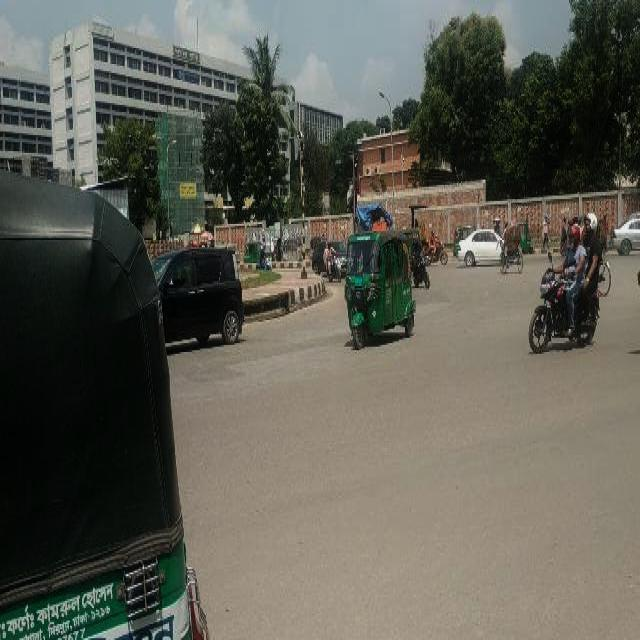car: (455, 230, 500, 268), (608, 217, 639, 256)
motorcycle: (341, 230, 416, 354), (525, 249, 597, 354), (499, 218, 523, 274), (409, 256, 431, 292), (424, 240, 448, 265), (280, 237, 302, 260), (519, 218, 532, 252), (323, 254, 340, 280), (243, 237, 259, 260)
truck: (155, 249, 244, 352)
